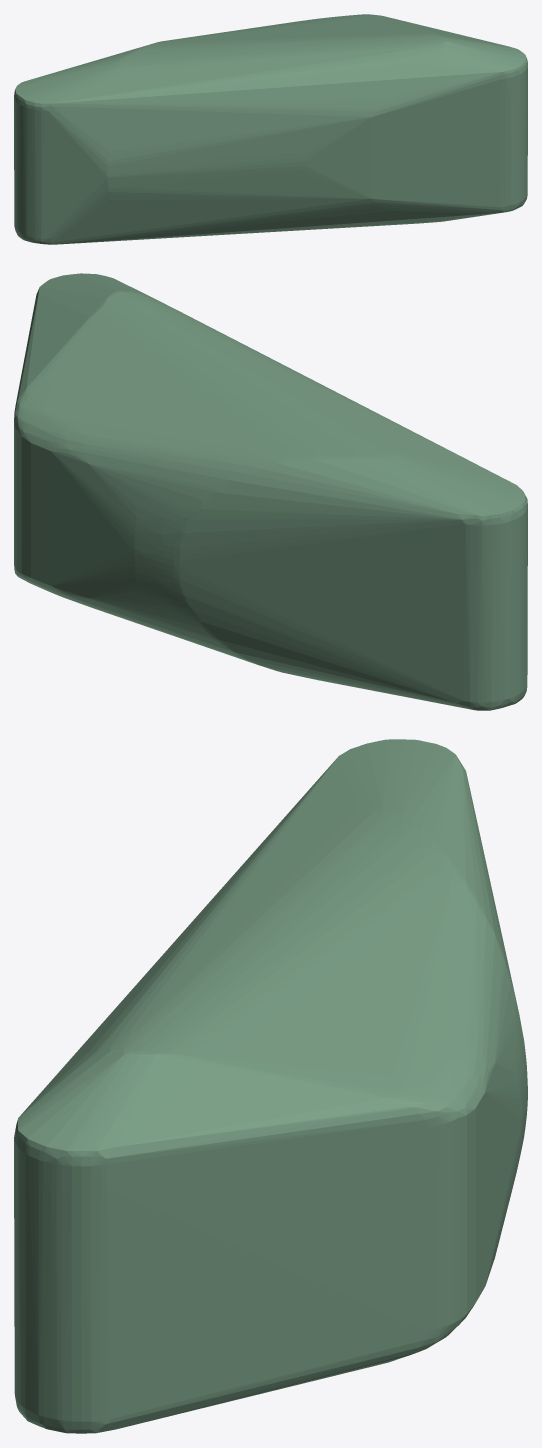
3 renders of one model, top to bottom at view 1: azimuth 30°, elevation 25°; view 2: azimuth 150°, elevation 25°; view 3: azimuth 270°, elevation 25°, orthographic. The views are drawn at different scales.
Visible parts, largest first — view 1: geometry_0; view 2: geometry_0; view 3: geometry_0.
Boxes of the visible parts, bbox=[...] form: geometry_0: bbox=[14, 14, 527, 244]; geometry_0: bbox=[14, 273, 527, 710]; geometry_0: bbox=[14, 739, 527, 1433].
Size of the model in its own units: 0.039 by 0.0155 by 0.0204.
